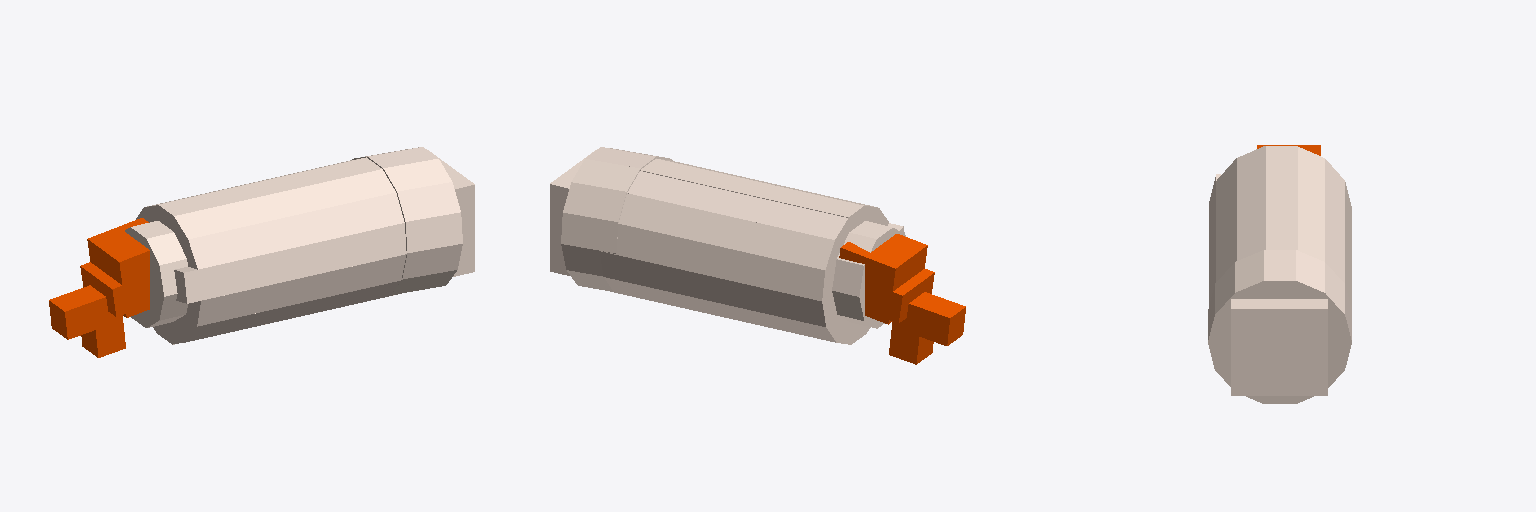
3 views of the same model, side by side, from view 1: azimuth 30°, elevation 25°; view 2: azimuth 150°, elevation 25°; view 3: azimuth 270°, elevation 25° (orthographic).
Parts seen in each view (by area): view 1: Model; view 2: Model; view 3: Model.
Part boxes in pixels (bbox=[...]): Model: bbox=[49, 147, 474, 357]; Model: bbox=[550, 147, 965, 364]; Model: bbox=[1208, 145, 1351, 403].
Size of the model in its own units: 27.98 by 9.17 by 8.99.
Materials: 1 (1 with a texture image).